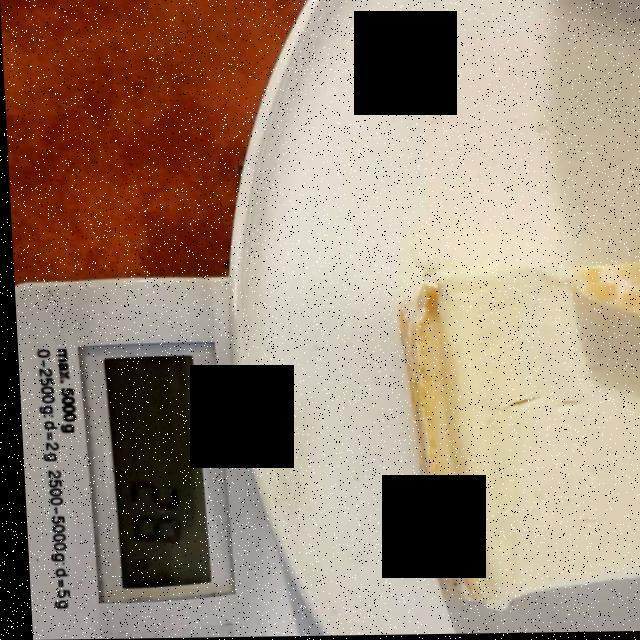cheese: (393, 258, 640, 602)
